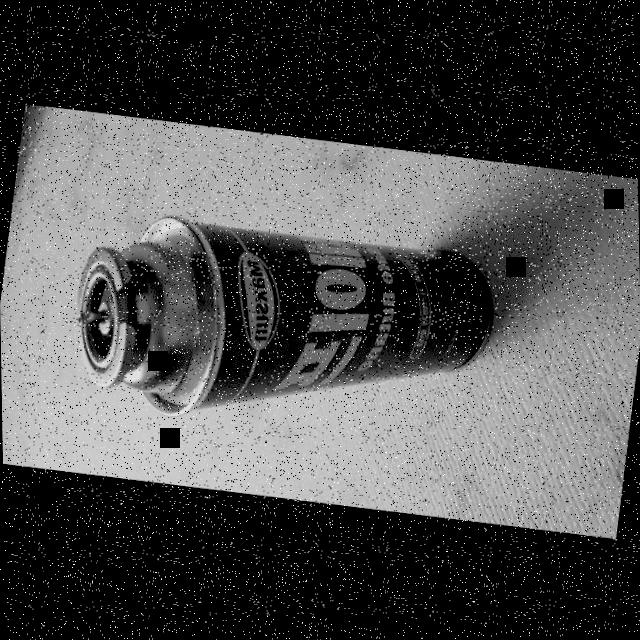chemical_spray_can: (47, 194, 510, 478)
